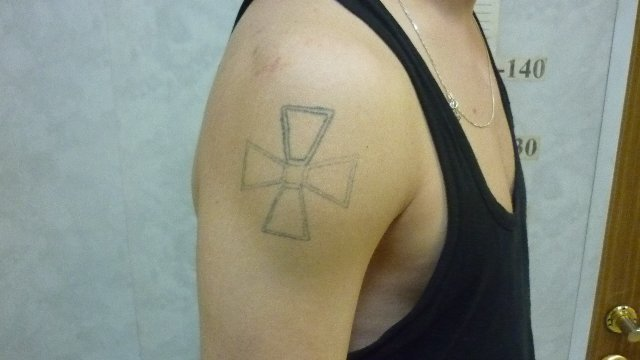tatu9_krest: (233, 89, 365, 249)
